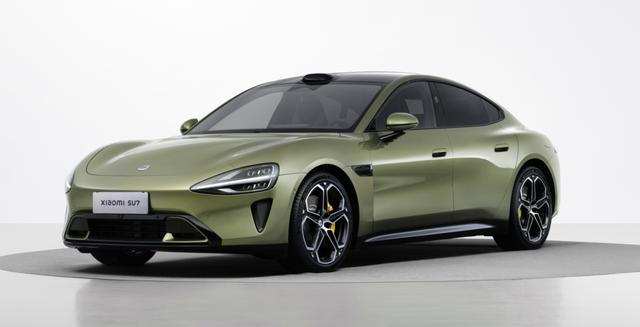su7: (67, 70, 557, 273)
